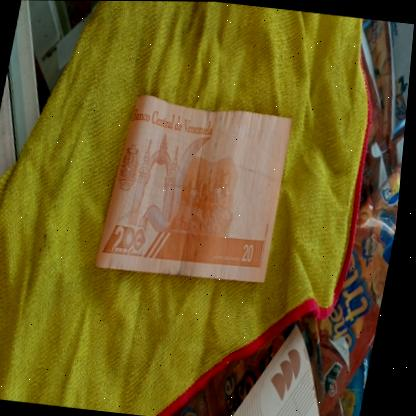twenty-back-vef: (96, 91, 301, 286)
